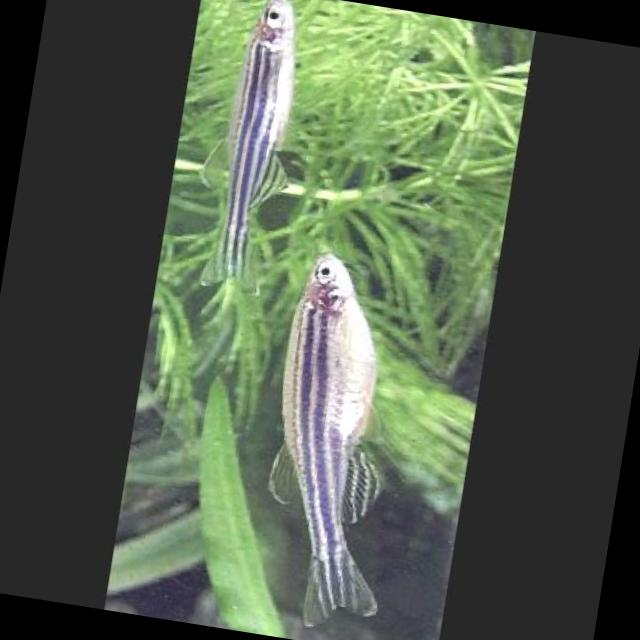ZebraFish: (240, 246, 436, 637), (180, 0, 315, 295)
